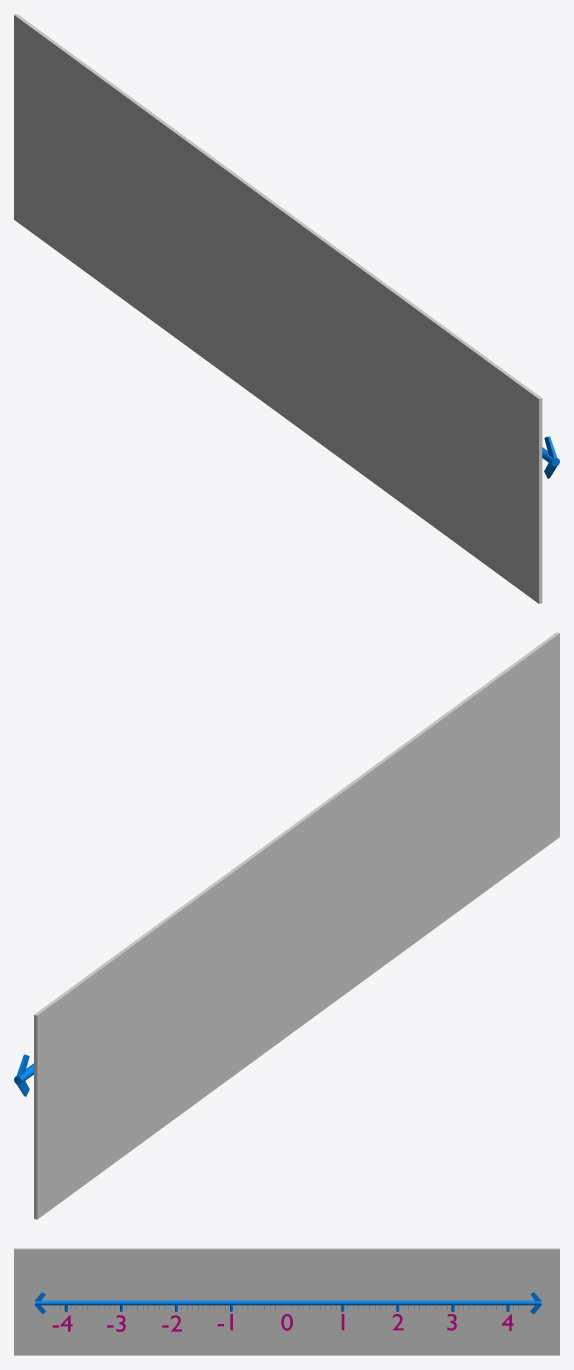
Rendered from RECTA.fbx.
3 renders of one model, top to bottom at view 1: azimuth 30°, elevation 25°; view 2: azimuth 150°, elevation 25°; view 3: azimuth 270°, elevation 25°, orthographic. The views are drawn at different scales.
Parts seen in each view (by area): view 1: Cubo; view 2: Cubo; view 3: Cubo, Cilindro, Texto.008, Cilindro.002, Cilindro.001.
Part boxes in pixels (box(x1,y1,x2,y2)): Cubo: box(14, 14, 542, 603); Cubo: box(34, 632, 559, 1219); Cubo: box(14, 1248, 559, 1355); Cilindro: box(35, 1292, 541, 1313); Texto.008: box(52, 1314, 513, 1331); Cilindro.002: box(54, 1305, 519, 1309); Cilindro.001: box(64, 1305, 509, 1311).
Size of the model in its own units: 178 by 847 by 3934.
